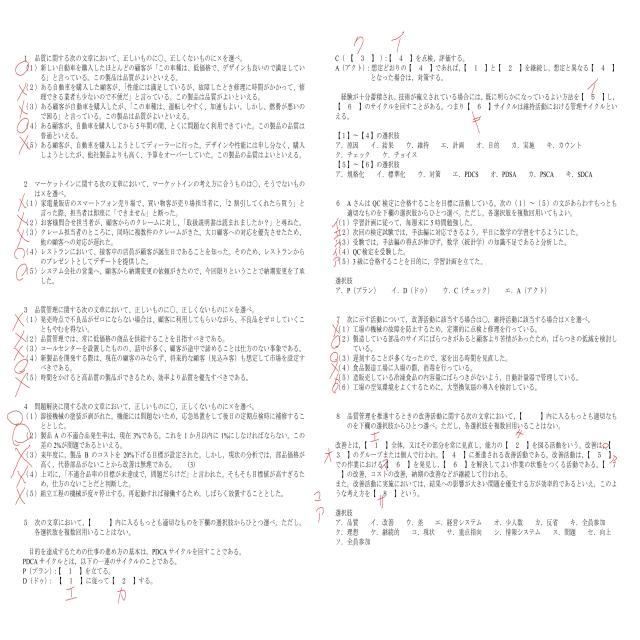衛生紙: (328, 25, 549, 251)
